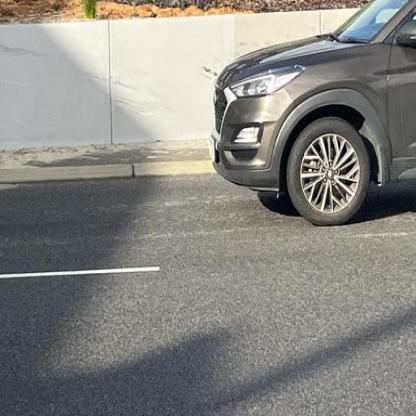Tire: (286, 115, 370, 226)
